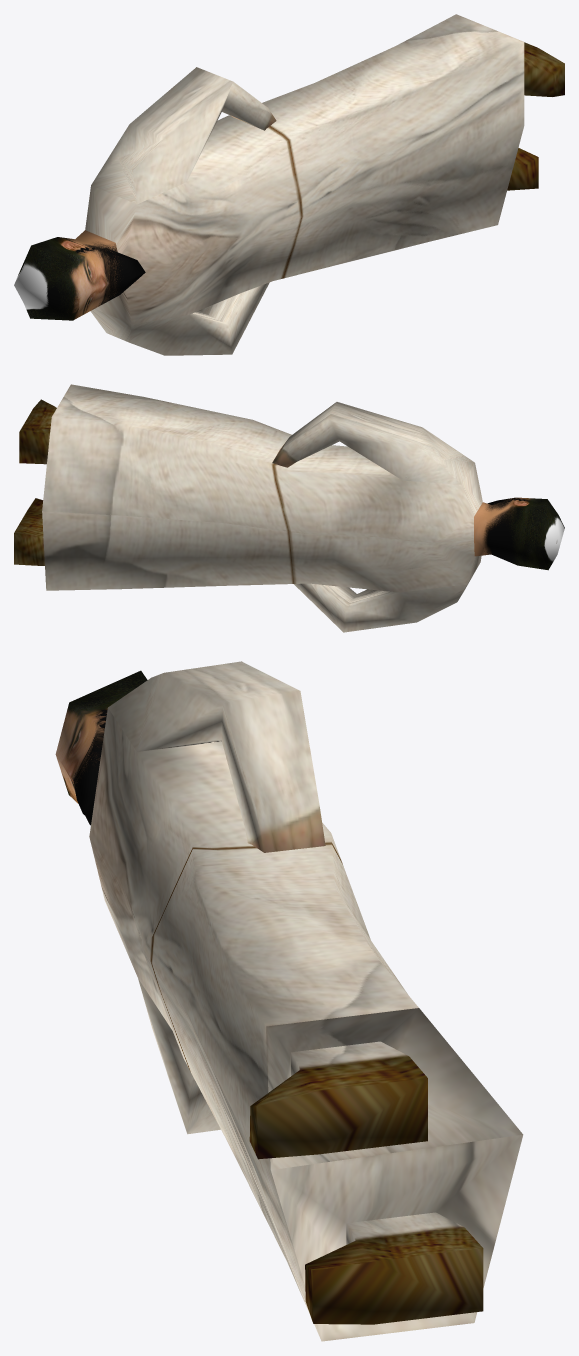
Rendered from man1_50.fbx.
3 renders of one model, top to bottom at view 1: azimuth 30°, elevation 25°; view 2: azimuth 150°, elevation 25°; view 3: azimuth 270°, elevation 25°, orthographic. The views are drawn at different scales.
Parts seen in each view (by area): view 1: man1_50; view 2: man1_50; view 3: man1_50.
Part boxes in pixels (<box>): man1_50: <box>14,14,564,355</box>; man1_50: <box>14,384,564,632</box>; man1_50: <box>55,661,523,1341</box>.
Size of the model in its own units: 38.08 by 16.37 by 15.71.
